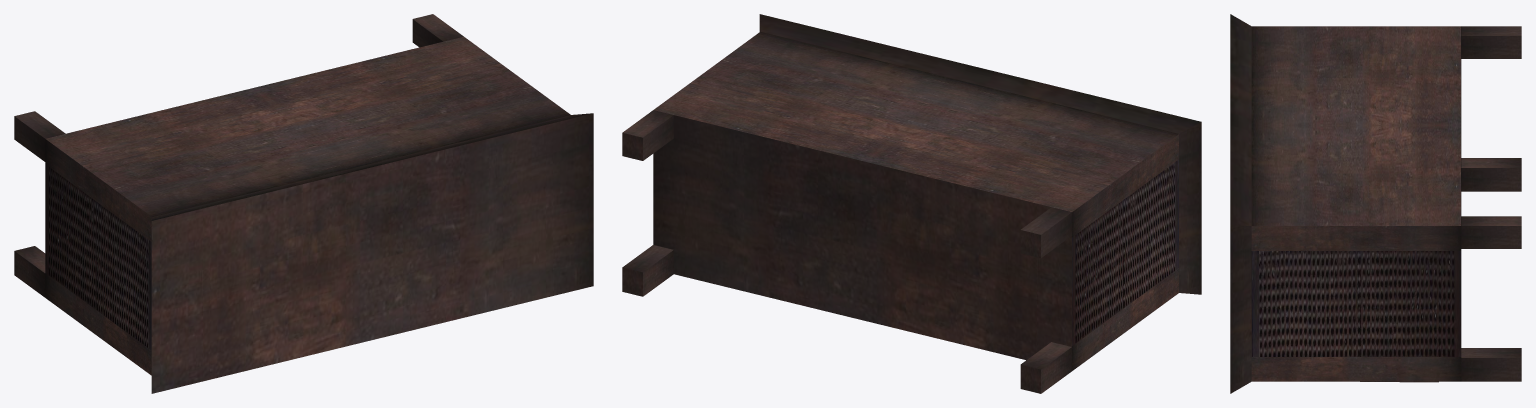
File: furniture_northafrica_armoire_short.glb
The picture shows the model from 3 angles, left to right: view 1: azimuth 30°, elevation 25°; view 2: azimuth 150°, elevation 25°; view 3: azimuth 270°, elevation 25°; orthographic projection. The views are drawn at different scales.
Bounding box in the file's own units: 66.88 × 25 × 39.02.
Materials: 1 (1 with a texture image).
